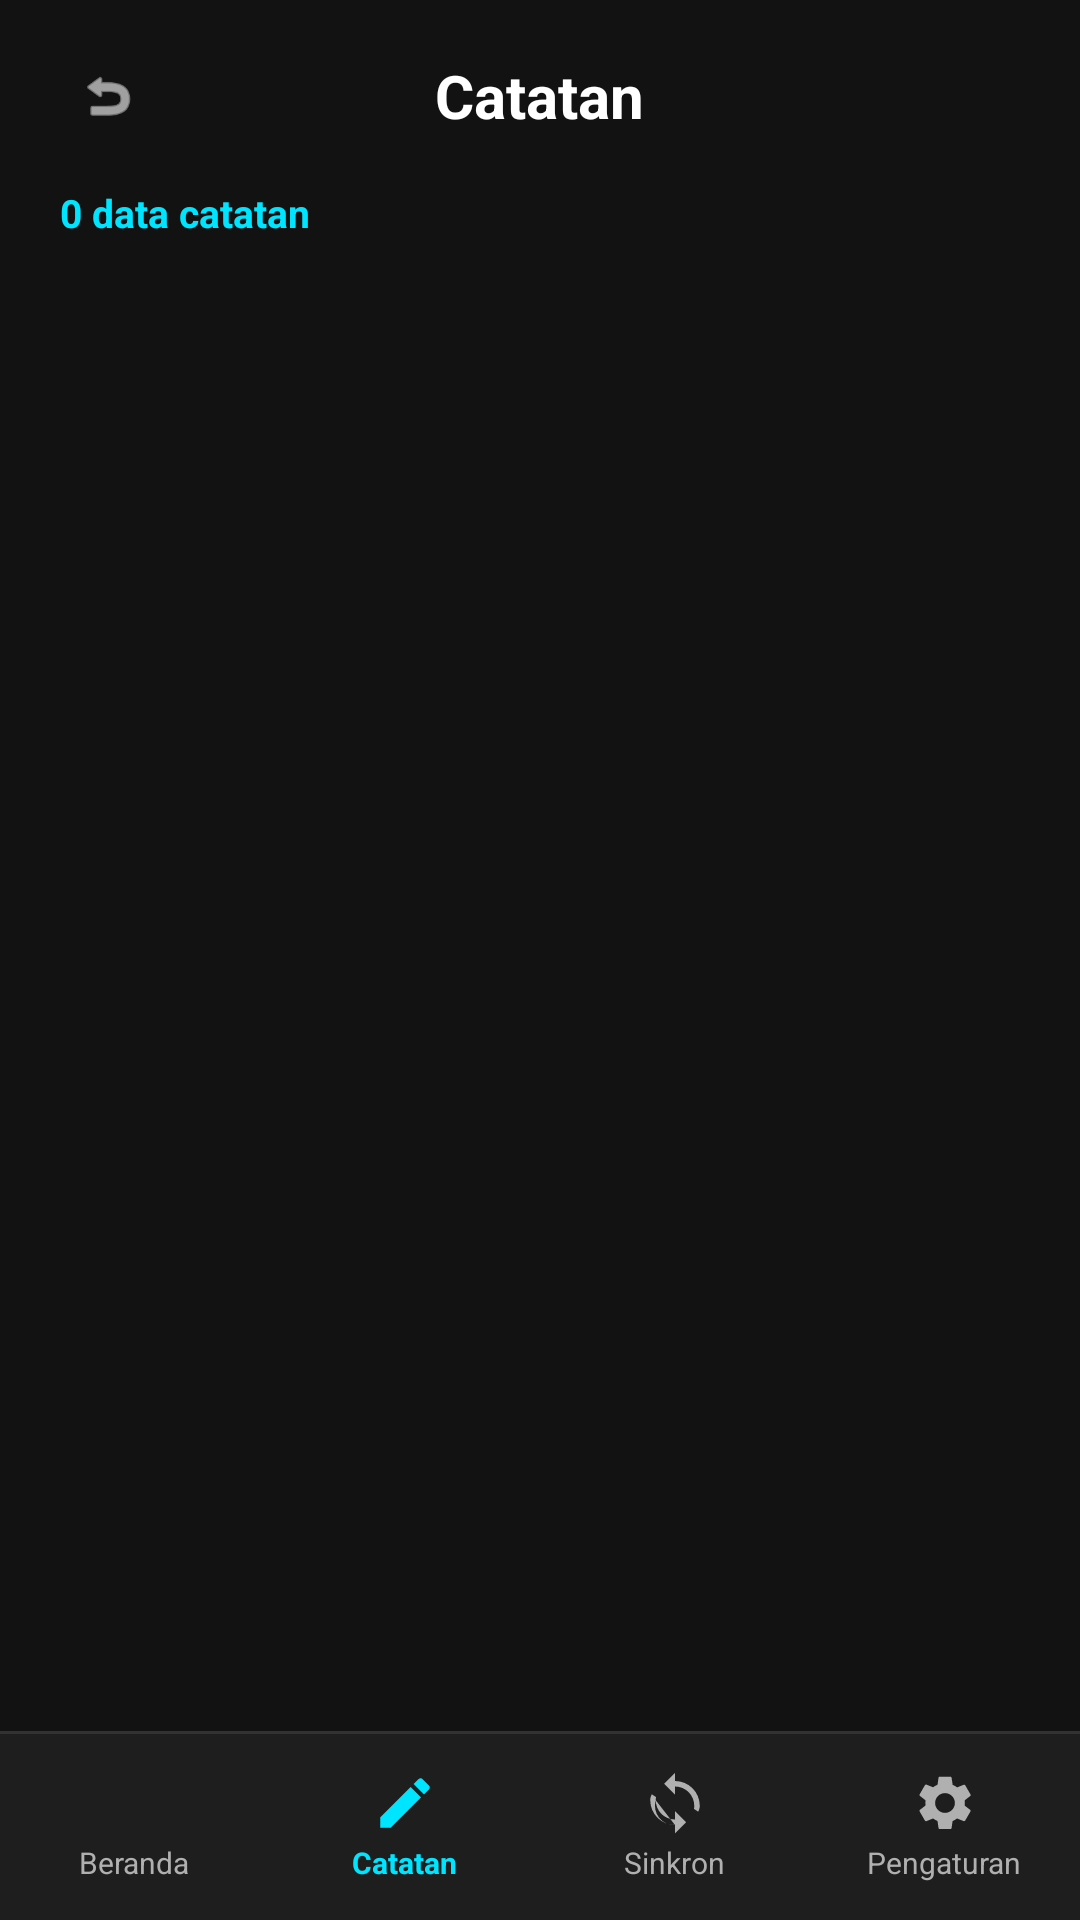

Icons on this 1080*1920 Android screen, each with the point to tap as (x=x, y=y):
revert: (x=108, y=96)
